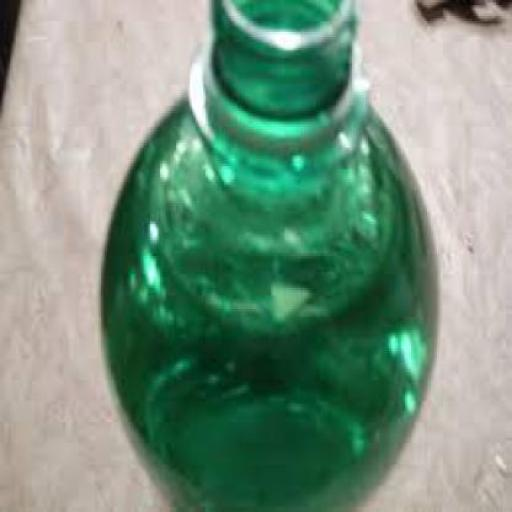glass: (98, 0, 434, 510)
